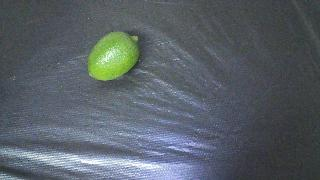LOCAL: (87, 31, 139, 81)
